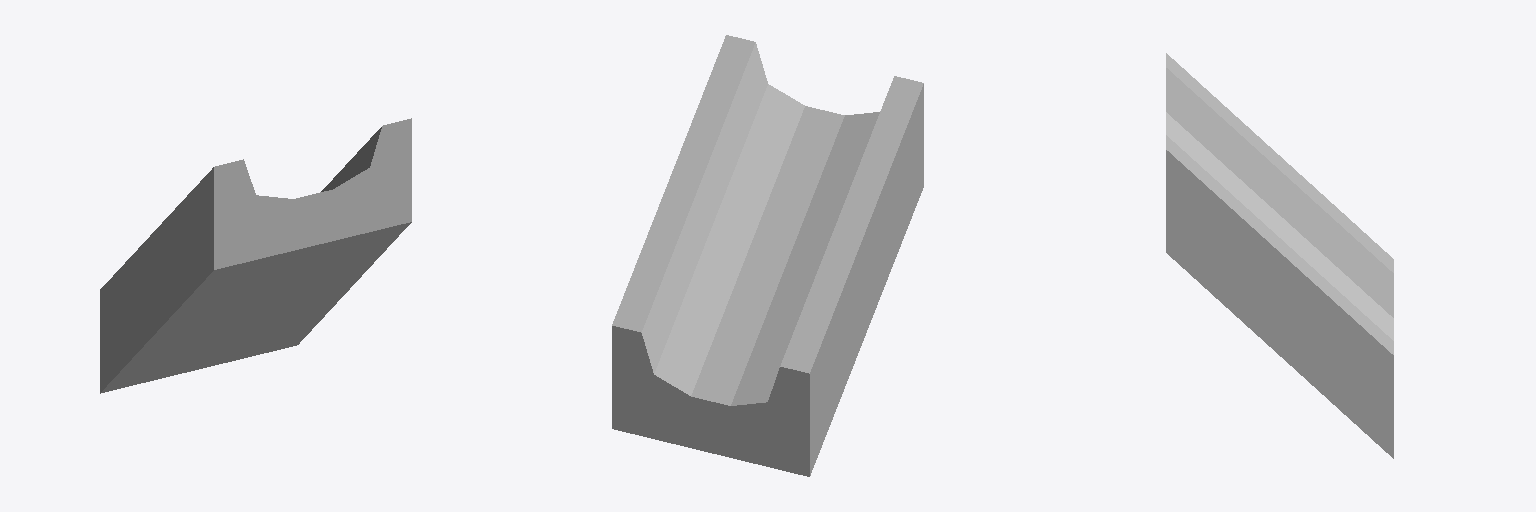
File: slant-c.obj
The picture shows the model from 3 angles: view 1: azimuth 30°, elevation 25°; view 2: azimuth 150°, elevation 25°; view 3: azimuth 270°, elevation 25°; orthographic projection.
Parts seen in each view (by area): view 1: slant-c; view 2: slant-c; view 3: slant-c.
Part boxes in pixels (left/top/right/bottom): slant-c: left=100, top=118, right=411, bottom=393; slant-c: left=612, top=35, right=923, bottom=476; slant-c: left=1166, top=53, right=1393, bottom=458.
Size of the model in its own units: 1 by 1.5 by 1.